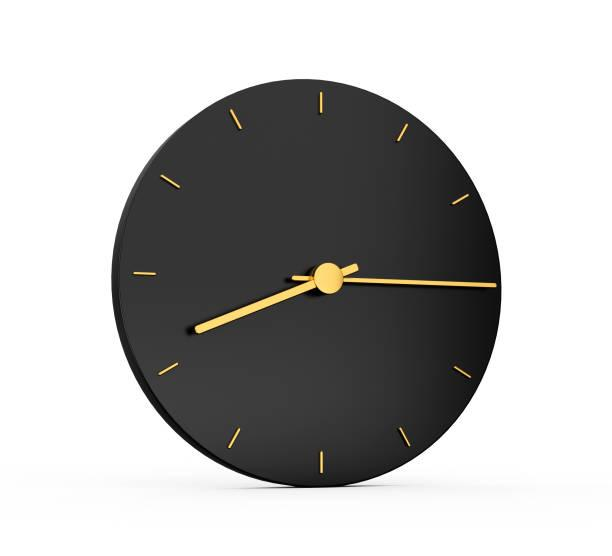clock: (111, 69, 510, 496)
